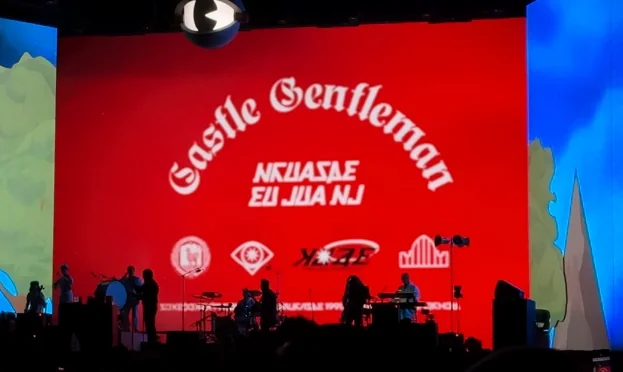B: (251, 159, 271, 184), (330, 184, 350, 207)
G: (314, 159, 333, 183)
H: (327, 159, 347, 183)
O: (283, 160, 302, 183), (262, 185, 281, 208), (295, 184, 314, 207)
R: (268, 160, 287, 184)
T: (341, 159, 360, 182), (247, 185, 265, 208)
U: (298, 160, 317, 184), (310, 185, 328, 208)
Y: (347, 183, 367, 207), (281, 184, 299, 207)
